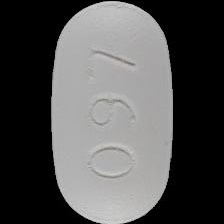64725-0097: (0, 0, 224, 224)
